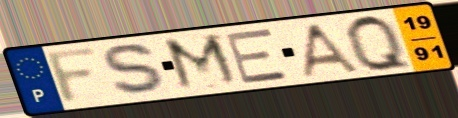A: (298, 21, 364, 79)
E: (222, 26, 293, 86)
F: (43, 44, 102, 107)
M: (160, 31, 246, 94)
Q: (343, 13, 417, 74)
S: (100, 42, 173, 98)
